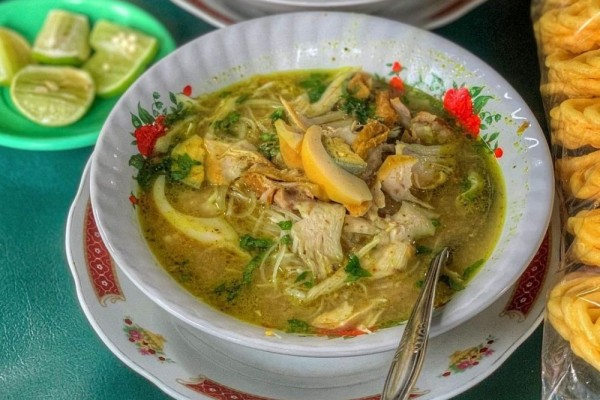soto: (100, 19, 550, 344)
